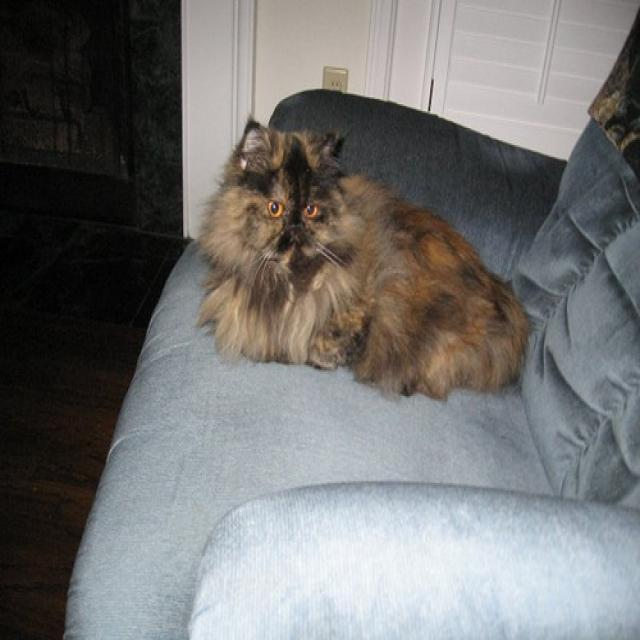Persian: (201, 115, 350, 276)
